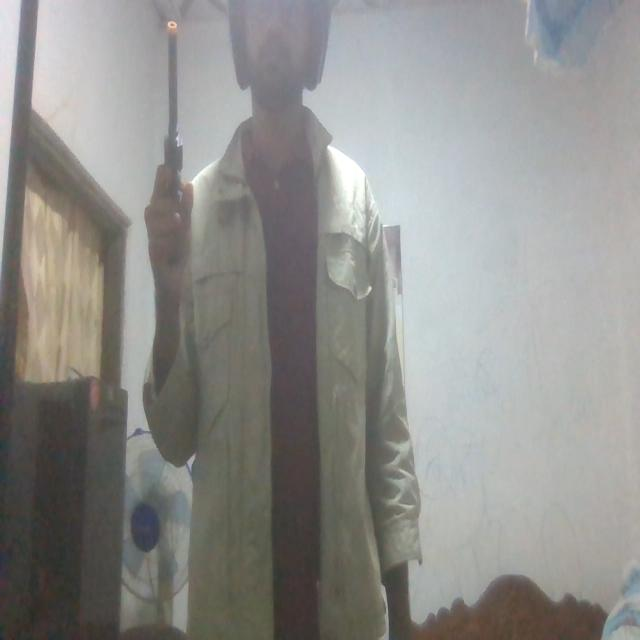Gun_Holder: (146, 12, 200, 258)
Helmet_Wearer: (219, 0, 335, 94)
Jacket_Wearer: (145, 112, 426, 640)
Person: (134, 0, 418, 640)
